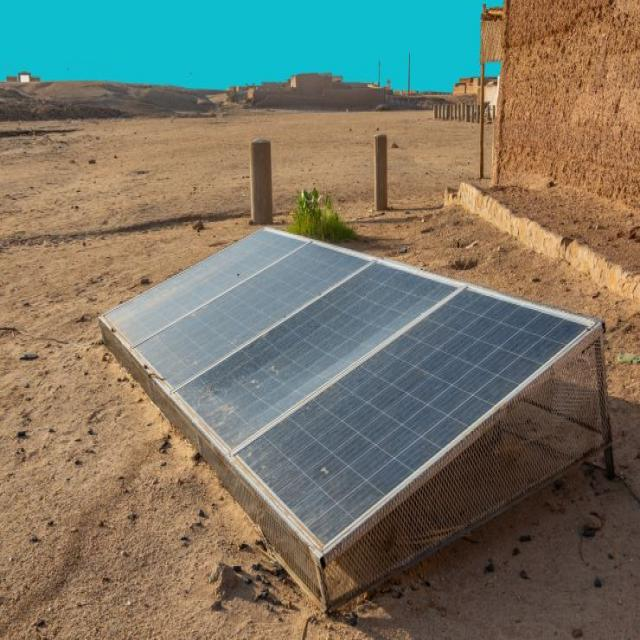faulty: (235, 282, 590, 557), (173, 263, 454, 461), (143, 245, 366, 386), (102, 226, 311, 351)
